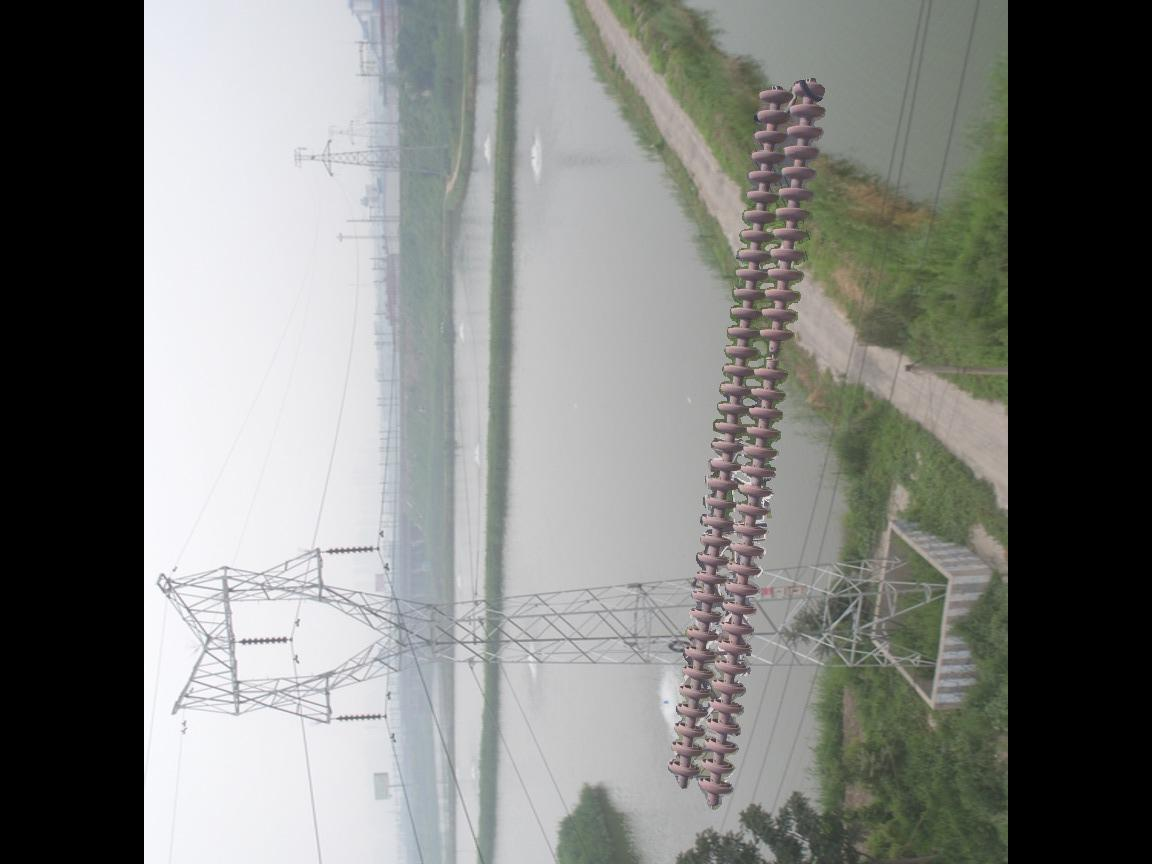insulator: (665, 71, 833, 805), (332, 710, 383, 728), (322, 541, 375, 558), (236, 634, 290, 650)
insulator_stringdrop: (750, 322, 795, 384)
